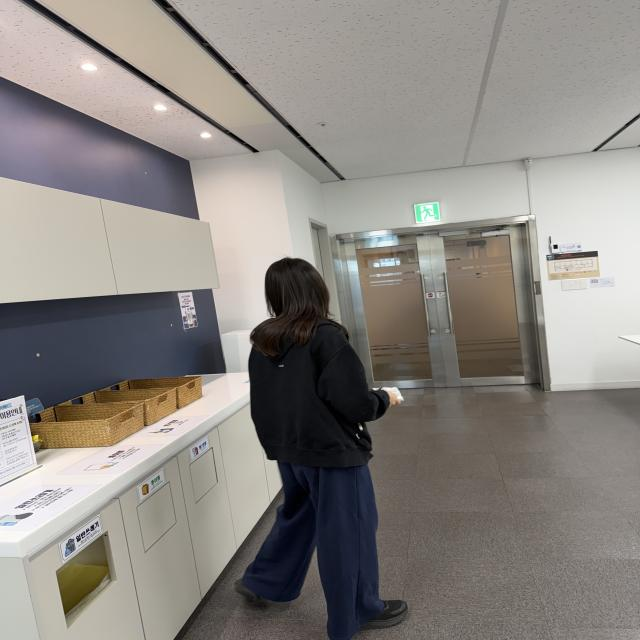rear_door: (342, 225, 539, 390)
